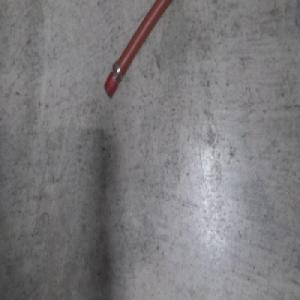Hose: (103, 0, 180, 99)
